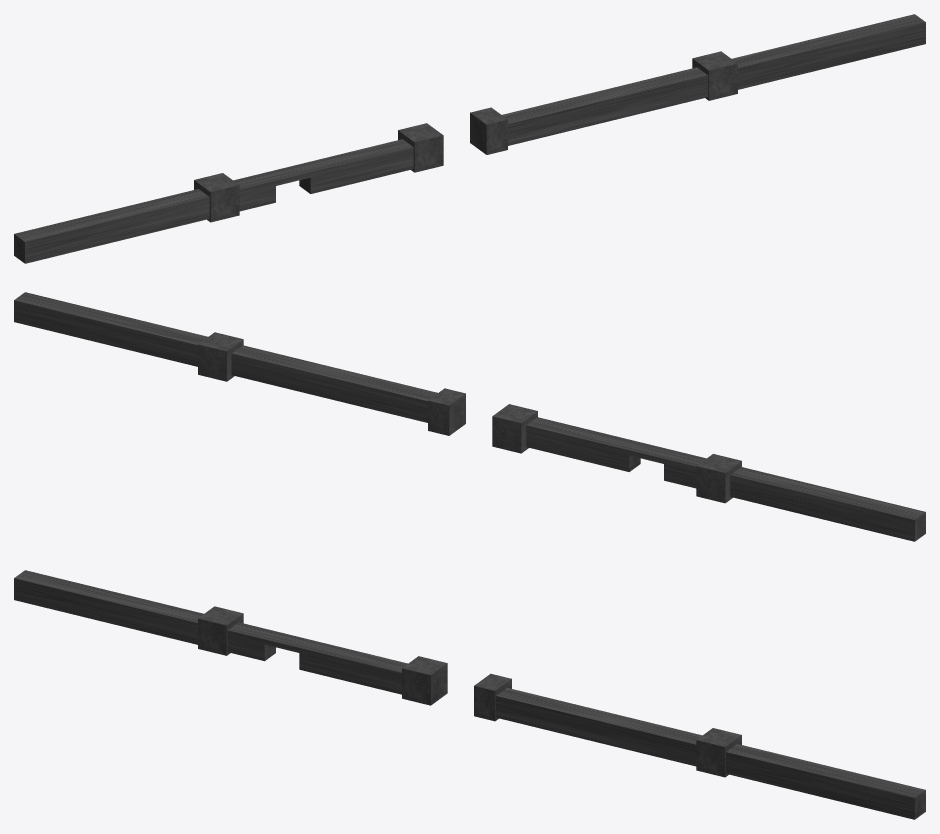
The model's file is wall.obj.
The picture shows the model from 3 angles, top to bottom: view 1: azimuth 30°, elevation 25°; view 2: azimuth 150°, elevation 25°; view 3: azimuth 330°, elevation 25°; orthographic projection.
Visible parts, largest first — view 1: wall; view 2: wall; view 3: wall.
Boxes of the visible parts, box(x1,y1,x2,y2) form: wall: box(14, 14, 925, 263); wall: box(14, 292, 925, 541); wall: box(14, 570, 925, 819).
Bounding box in the file's own units: 62.17 × 2 × 2.
Materials: 1 (1 with a texture image).
